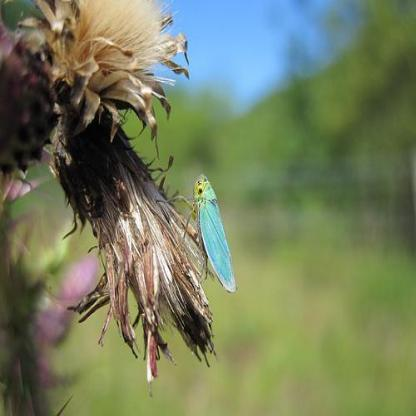Green-Leafhopper: (164, 176, 237, 300)
